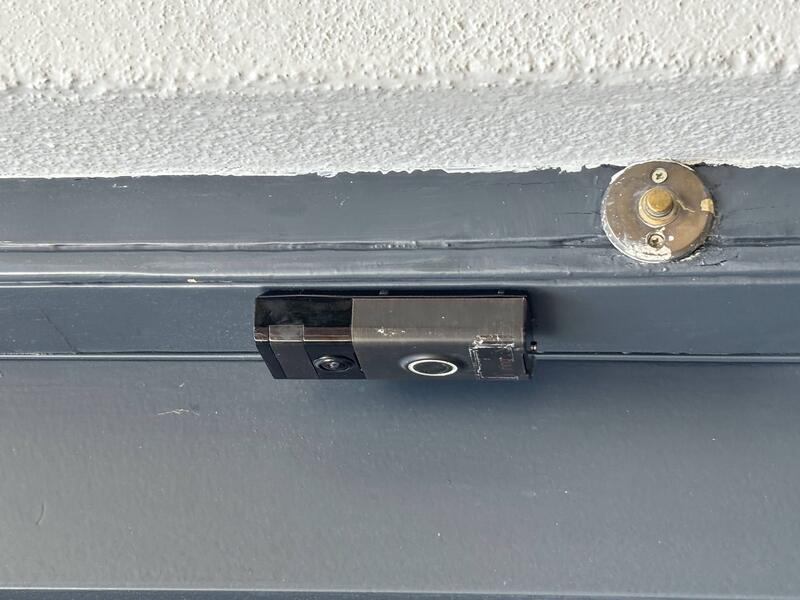doorbell: (207, 261, 320, 545)
